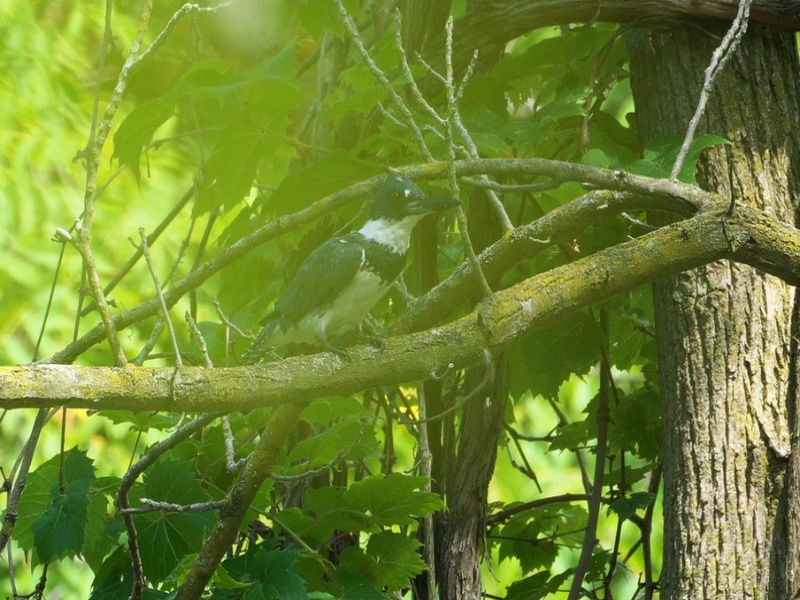kingfisher: (250, 169, 464, 360)
